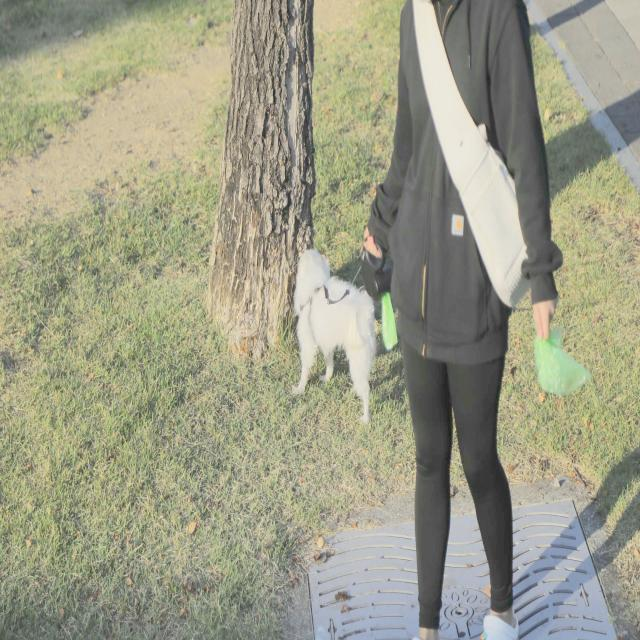Leashed_Dog: (293, 226, 426, 428)
